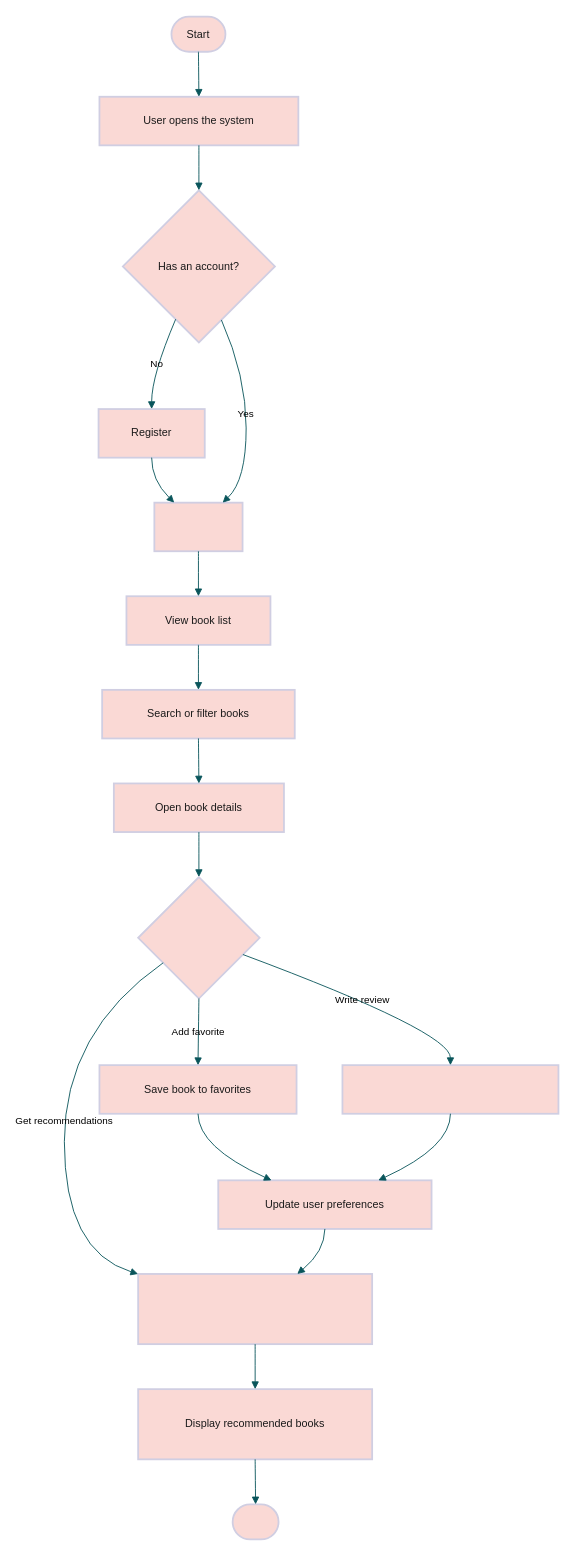
Image size: 575x1555. Some labels were removed from this diagram. The centre of each missing label's shape, as x and y in pixels:
"End" goes at [255,1521].
"Generate personalized recommendations" goes at [255,1309].
"Login" goes at [198,526].
"Submit review and rating" goes at [450,1089].
"User action" goes at [198,937].
